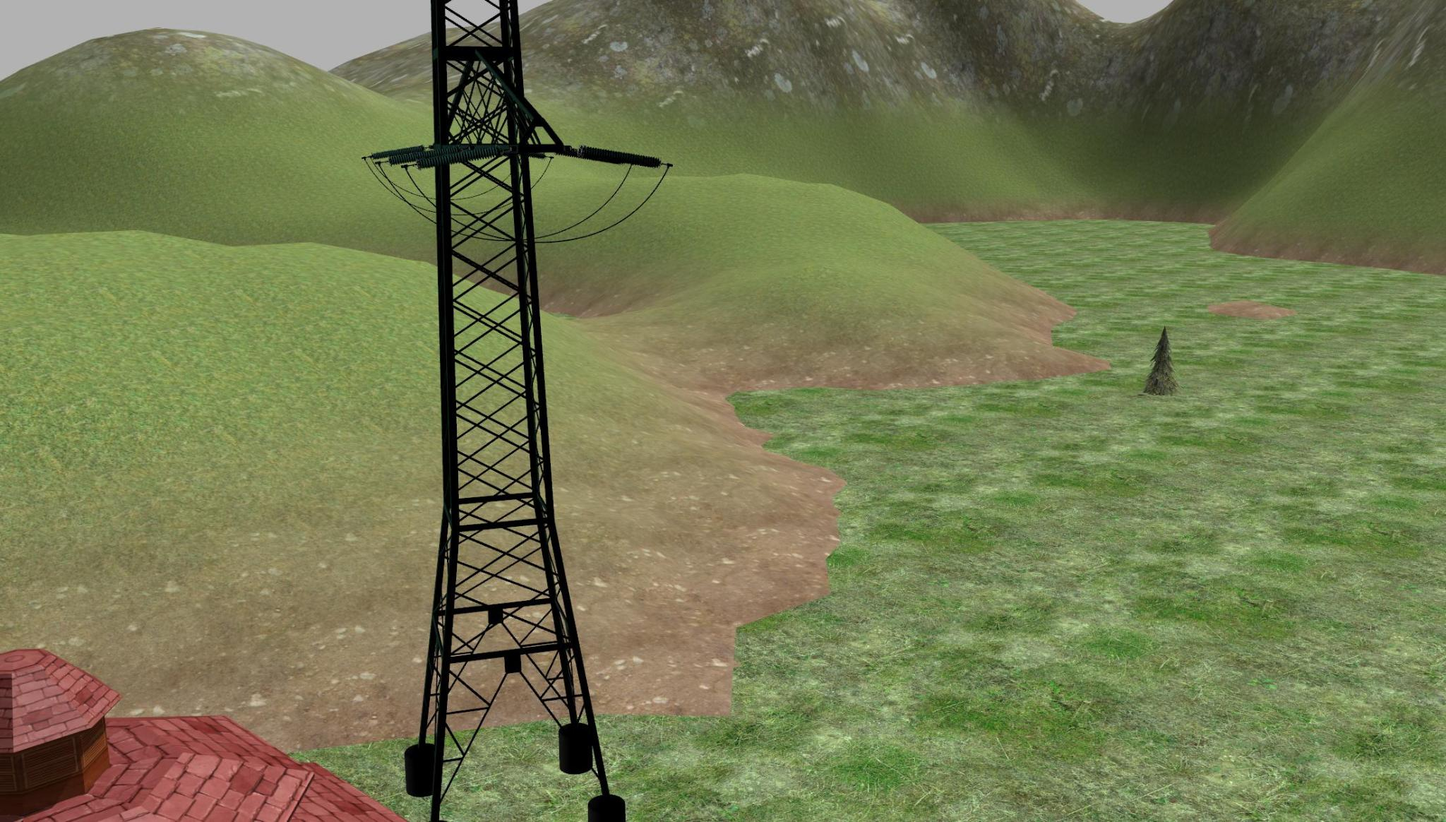tower: (401, 1, 627, 822)
